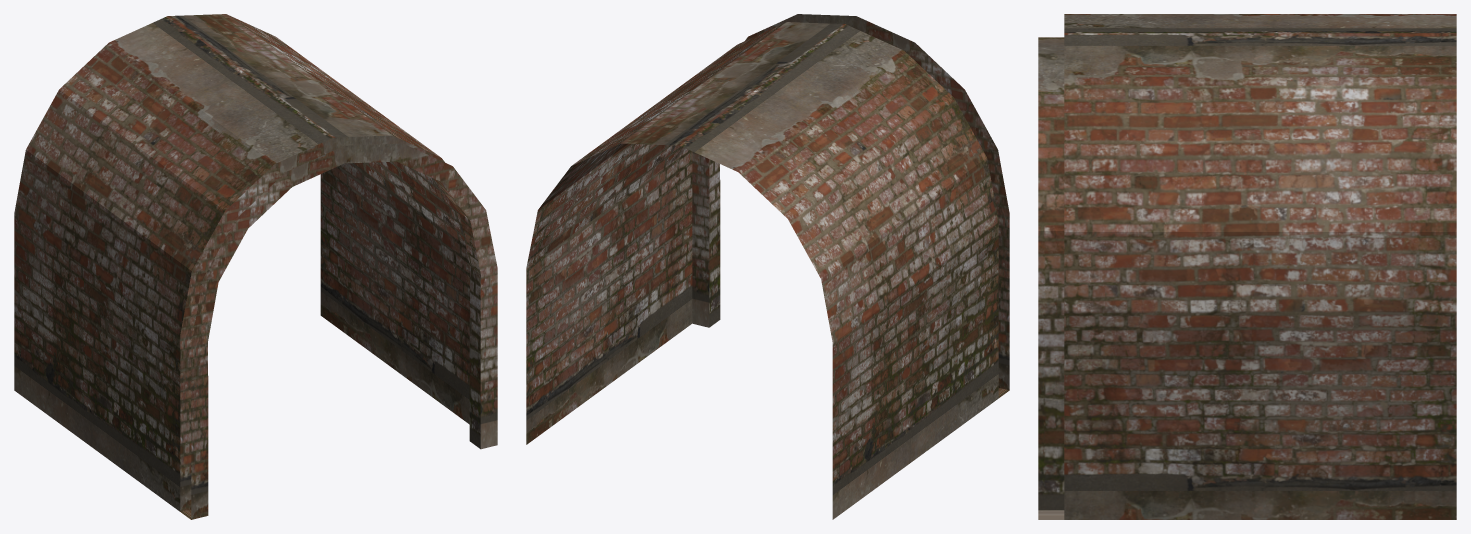
Rendered from tunnel_Wall1_GEO.fbx.
The picture shows the model from 3 angles, left to right: view 1: azimuth 30°, elevation 25°; view 2: azimuth 150°, elevation 25°; view 3: azimuth 270°, elevation 25°; orthographic projection. The views are drawn at different scales.
Visible parts, largest first — view 1: tunnel_Wall1_GEO; view 2: tunnel_Wall1_GEO; view 3: tunnel_Wall1_GEO.
Part boxes in pixels (x1,y1,x2,y2): tunnel_Wall1_GEO: [14, 14, 497, 519]; tunnel_Wall1_GEO: [526, 14, 1009, 519]; tunnel_Wall1_GEO: [1038, 14, 1456, 519].
Bounding box in the file's own units: 5 × 5.25 × 5.
